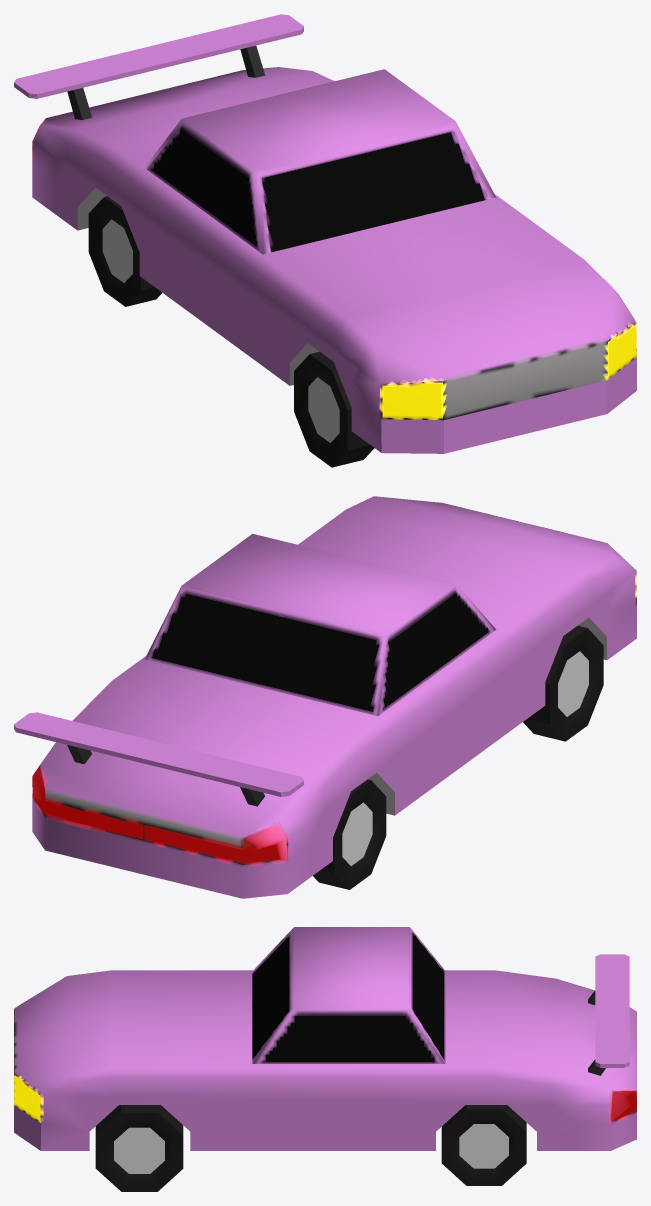
File: Race car.fbx
The picture shows the model from 3 angles, top to bottom: view 1: azimuth 30°, elevation 25°; view 2: azimuth 150°, elevation 25°; view 3: azimuth 270°, elevation 25°; orthographic projection. The views are drawn at different scales.
Parts seen in each view (by area): view 1: Race car; view 2: Race car; view 3: Race car.
Part boxes in pixels (x1,y1,x2,y2): Race car: (14,14,636,467); Race car: (14,496,636,898); Race car: (14,927,636,1191).
Bounding box in the file's own units: 183 × 136 × 440.
Materials: 1 (1 with a texture image).
